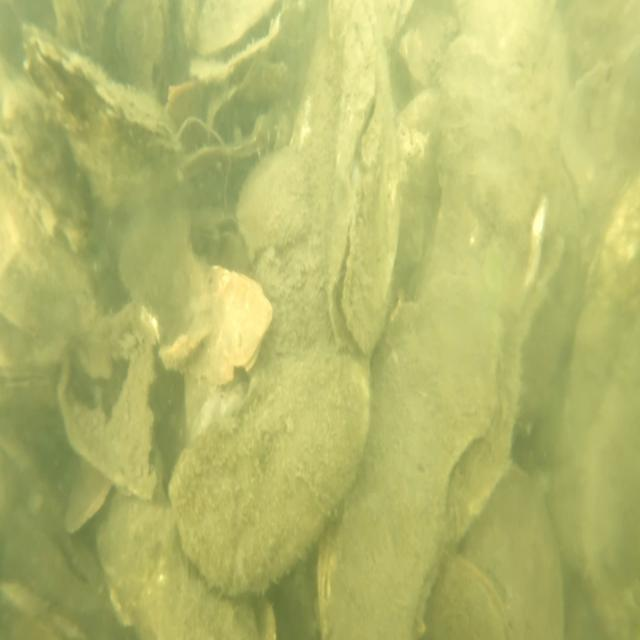Oyster-Closed: (313, 278, 503, 640), (424, 101, 562, 512), (555, 161, 640, 640), (21, 22, 180, 209), (104, 479, 278, 640), (0, 69, 92, 247), (161, 253, 272, 383), (421, 550, 505, 640), (0, 331, 58, 401)
Oyster-Indeterminate: (168, 351, 373, 594), (456, 462, 566, 640), (236, 149, 327, 357), (0, 169, 90, 340)
Oyster-Open: (327, 0, 399, 356), (203, 54, 292, 160), (191, 0, 305, 80)
